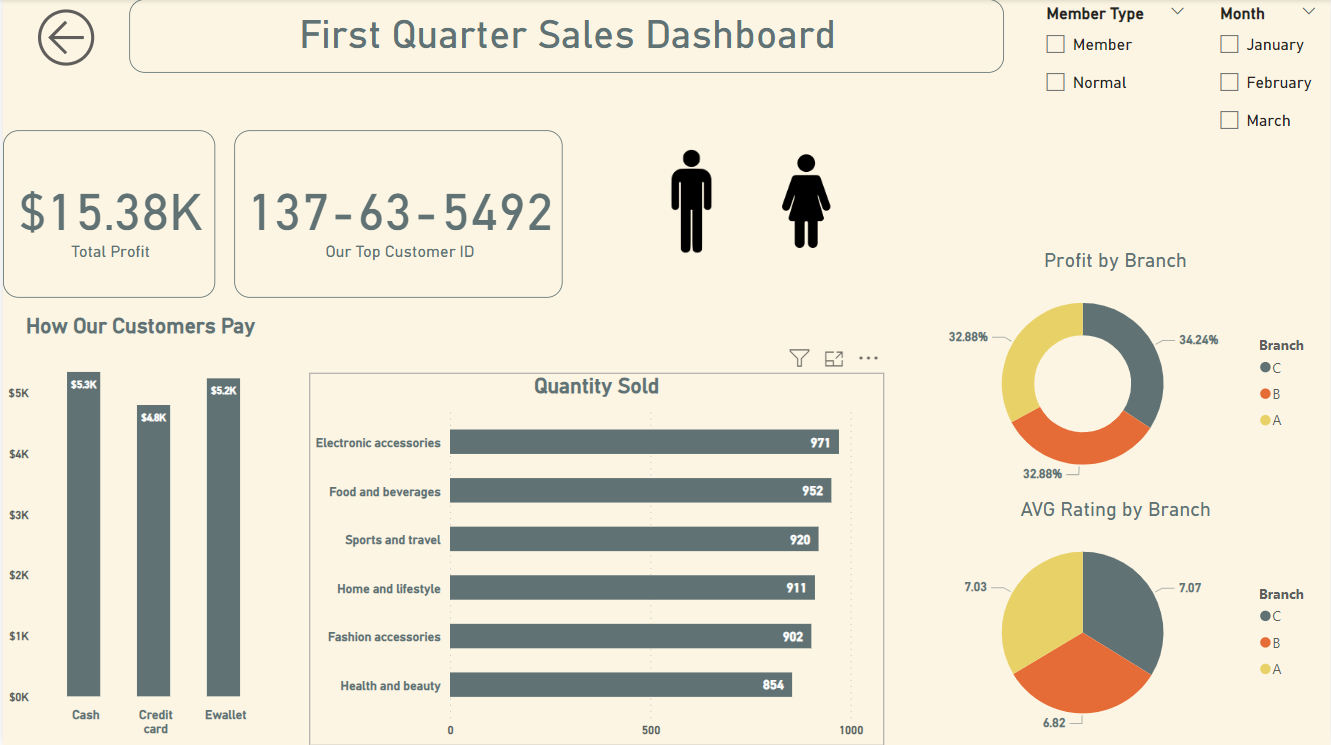

This screenshot's page, from the dashboard's own definition file:
{"tool":"powerbi","page":{"name":"Page 1","canvas":[1280,720],"ordinal":0},"visuals":[{"type":"card","fields":{"Values":["supermarket_sales - Sheet1.Total Profit"]},"box":[0,126.6,205,161.6],"z":0},{"type":"card","fields":{"Values":["Min(supermarket_sales - Sheet1.Invoice ID)"]},"box":[223.1,126.6,317.2,161.6],"z":1000},{"type":"donutChart","title":"Profit  by Branch","fields":{"Category":["supermarket_sales - Sheet1.Branch"],"Y":["Sum(supermarket_sales - Sheet1. Total )"]},"box":[867.1,241.2,412.5,238.8],"z":2000},{"type":"pieChart","title":"AVG Rating by Branch","fields":{"Category":["supermarket_sales - Sheet1.Branch"],"Y":["supermarket_sales - Sheet1.AVG Rating"]},"box":[867.1,481.2,412.5,238.8],"z":3000},{"type":"lineClusteredColumnComboChart","title":"How Our Customers Pay","fields":{"Category":["supermarket_sales - Sheet1.Payment"],"Y":["supermarket_sales - Sheet1.Total Profit"]},"box":[0,302.7,265.3,417.3],"z":4000},{"type":"clusteredBarChart","title":"Quantity Sold ","fields":{"Category":["supermarket_sales - Sheet1.Product line"],"Y":["Sum(supermarket_sales - Sheet1.Quantity)"]},"box":[295.5,360.6,554.8,359.4],"z":5000},{"type":"slicer","fields":{"Values":["supermarket_sales - Sheet1.Month Name"]},"box":[1161.4,0,118.2,142.3],"z":6000},{"type":"slicer","fields":{"Values":["supermarket_sales - Sheet1.Customer type"]},"box":[993.8,0,159.2,126.6],"z":7000},{"type":"actionButton","box":[26.5,1.2,68.7,71.2],"z":9000},{"type":"textbox","box":[121.8,0,844.2,71.2],"z":10000},{"type":"image","box":[610.3,137.5,108.5,115.8],"z":10001,"group":"g1"},{"type":"image","box":[724.6,127,100.1,136.3],"z":10002,"group":"g1"},{"type":"group","id":"g1","title":"Group 1","box":[610.3,127,214.4,136.3],"z":10003}]}

Visuals, with their boxes in screenshot pixels (x1, y1, x2, y2), scaled from the page's 1280x720 canvas onto the 1331x745 screenshot:
card - supermarket_sales - Sheet1.Total Profit: (0,131,213,298)
card - Min(supermarket_sales - Sheet1.Invoice ID): (232,131,562,298)
"Profit  by Branch" donutChart: (902,250,1330,497)
"AVG Rating by Branch" pieChart: (902,498,1330,744)
"How Our Customers Pay" lineClusteredColumnComboChart: (0,313,276,744)
"Quantity Sold " clusteredBarChart: (307,373,884,744)
slicer - supermarket_sales - Sheet1.Month Name: (1208,0,1330,147)
slicer - supermarket_sales - Sheet1.Customer type: (1033,0,1199,131)
actionButton: (28,1,99,75)
textbox: (127,0,1004,74)
image: (635,142,747,262)
image: (753,131,858,272)
"Group 1" group: (635,131,858,272)
